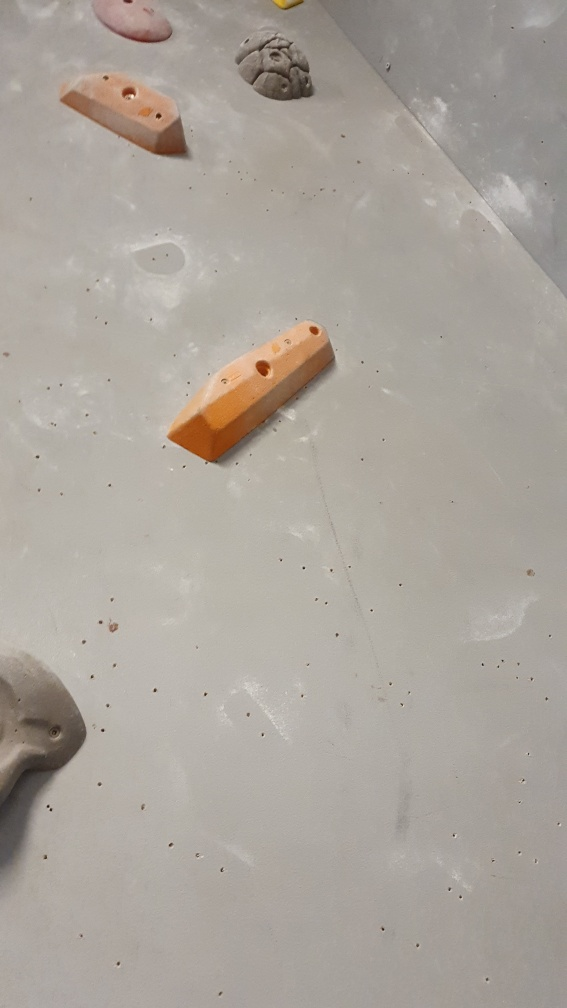Jug: (232, 25, 318, 104)
Pinch: (163, 318, 337, 464), (57, 70, 193, 159)
